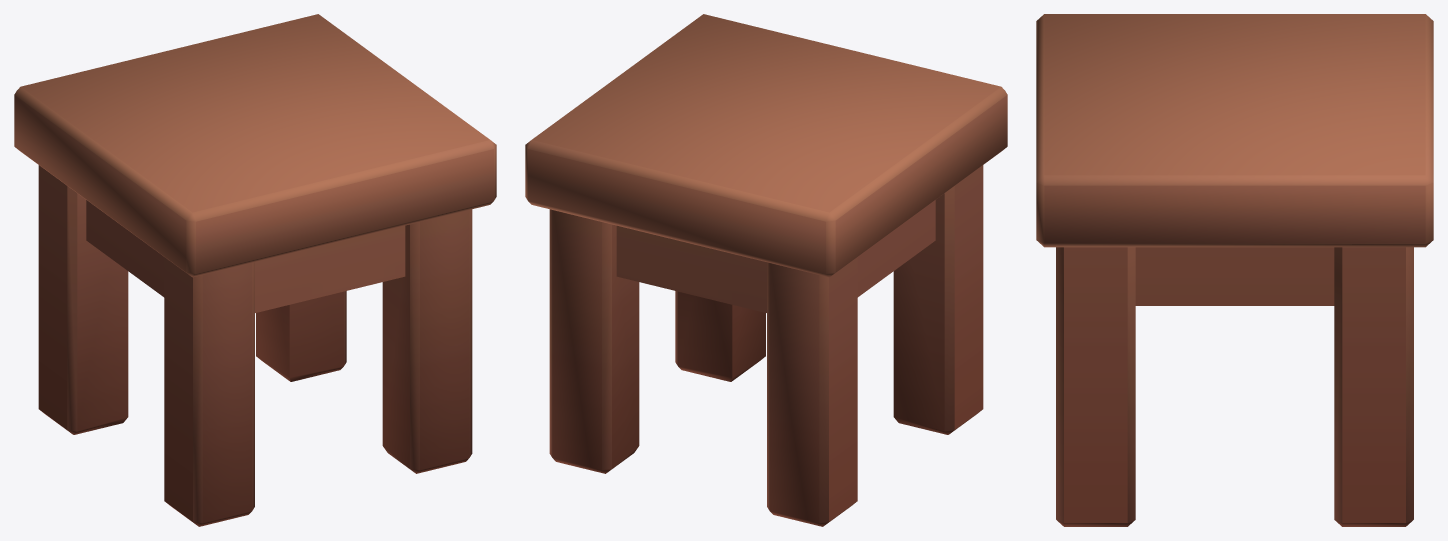
File: side-table-v1.glb
3 renders of one model, left to right at view 1: azimuth 30°, elevation 25°; view 2: azimuth 150°, elevation 25°; view 3: azimuth 270°, elevation 25°, orthographic. The views are drawn at different scales.
Parts seen in each view (by area): view 1: table_small; view 2: table_small; view 3: table_small.
Boxes of the visible parts, bbox=[...] form: table_small: bbox=[14, 14, 496, 526]; table_small: bbox=[525, 14, 1007, 526]; table_small: bbox=[1036, 14, 1433, 526].
Bounding box in the file's own units: 0.75 × 0.75 × 0.75.
Materials: 1 (1 with a texture image).
